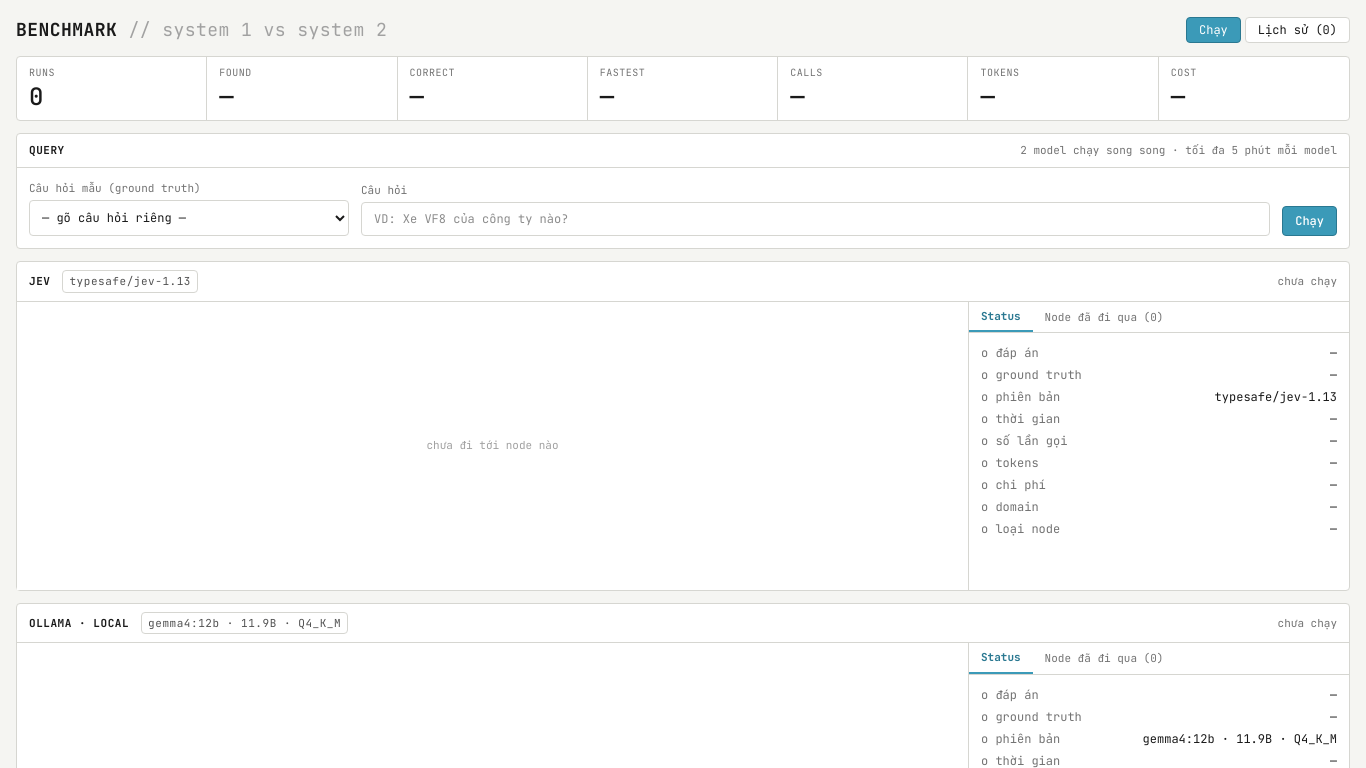
Test case: BenchmarkPage › runs a ground-truth case and shows correct / wrong verdicts
Select "vinfast-008 · 1 bước · Xe VF 8 của công ty nào?" in the dropdown labelled "Câu hỏi mẫu (ground truth)" at (189, 218), box left=29, top=200, right=349, bottom=236
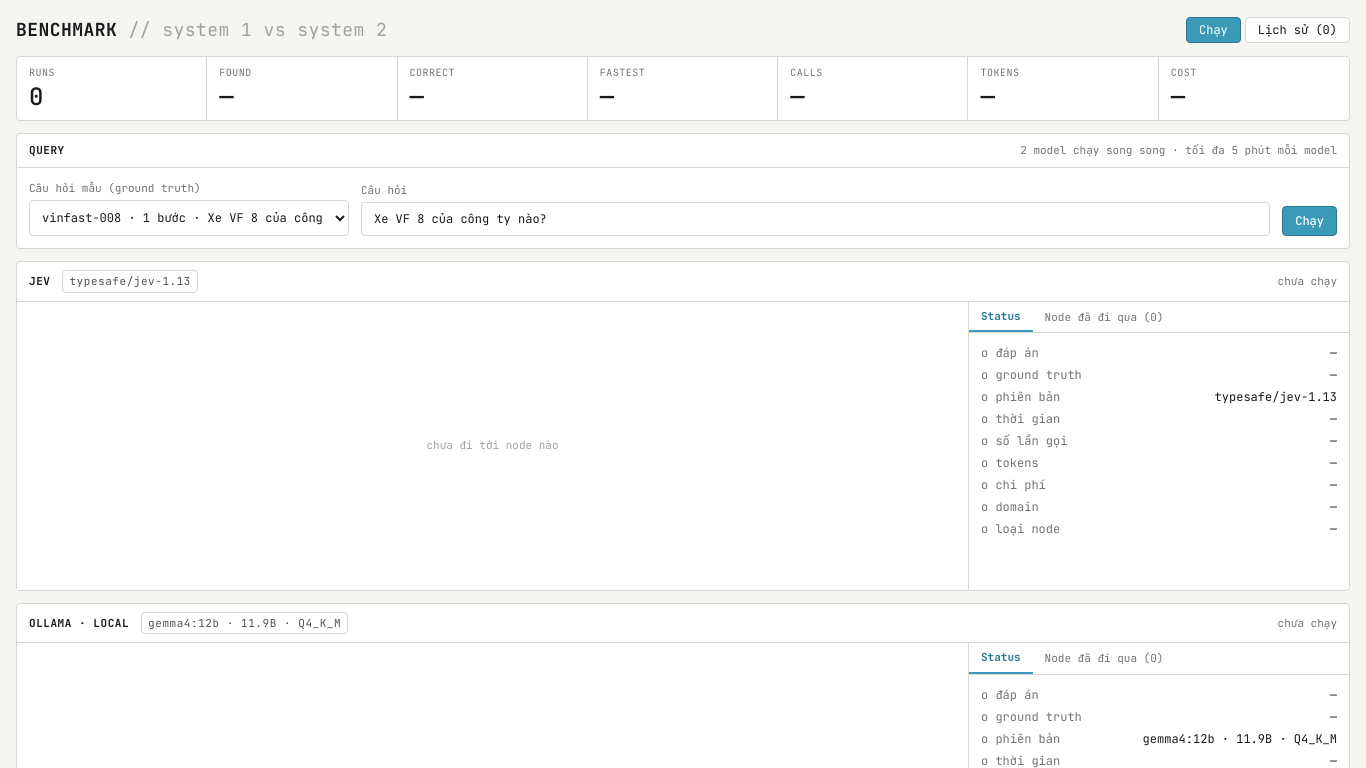
Result: the field labelled "Câu hỏi" holds "Xe VF 8 của công ty nào?" at left=361, top=202, right=1270, bottom=236
Click the button "Chạy" at (1310, 221), box left=1282, top=206, right=1337, bottom=236
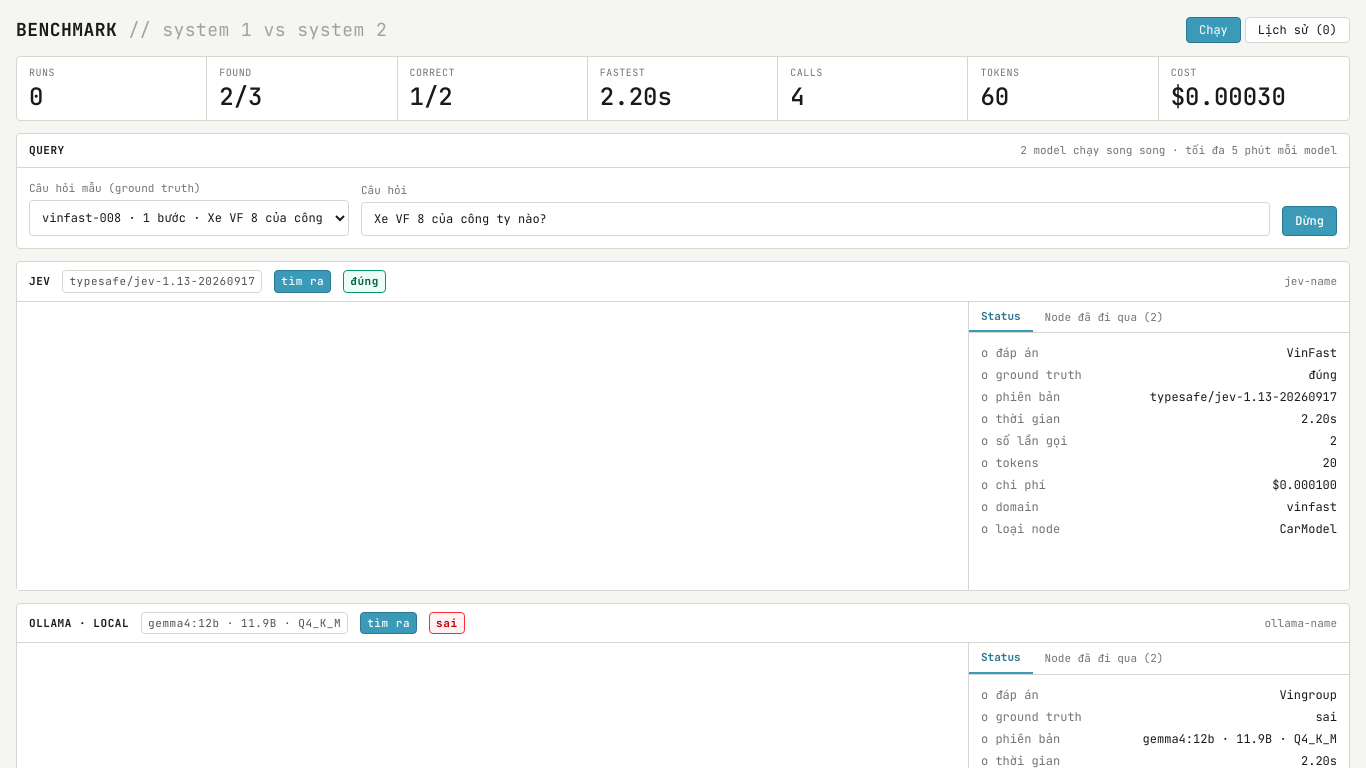
Result: the button "Dừng" is shown at left=1282, top=206, right=1337, bottom=236
Result: the text "1/2" is shown at left=410, top=81, right=453, bottom=112
Result: the text "đúng" is shown 2 times at left=343, top=270, right=386, bottom=292; left=1308, top=367, right=1337, bottom=383
